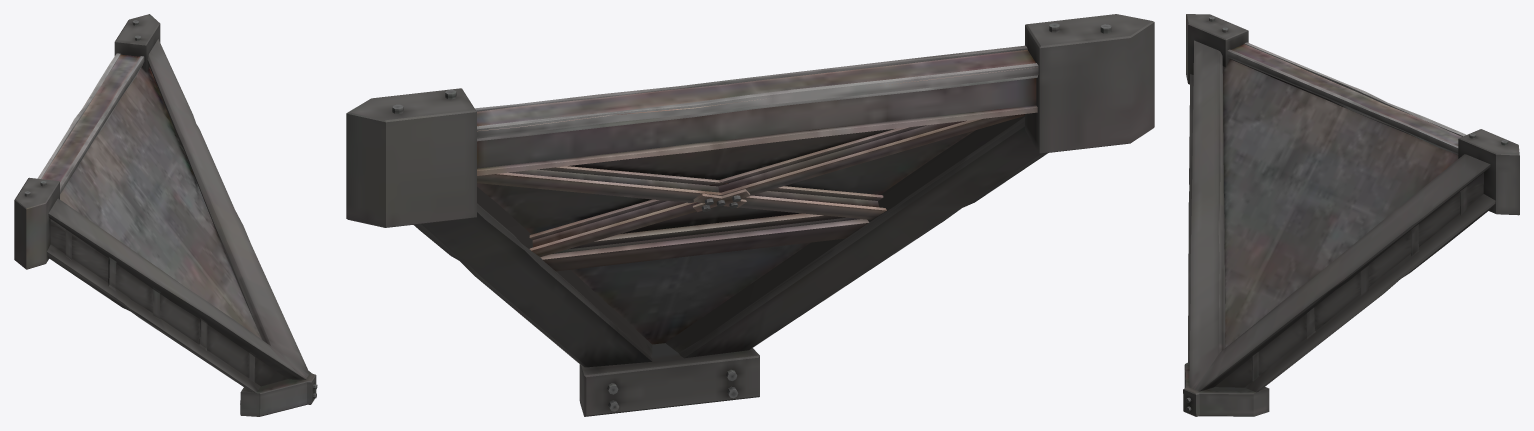
File: SM_SlopeRoofCornerReverse_Iron_b4ec48.glb
The picture shows the model from 3 angles, left to right: view 1: azimuth 30°, elevation 25°; view 2: azimuth 150°, elevation 25°; view 3: azimuth 270°, elevation 25°; orthographic projection. The views are drawn at different scales.
Bounding box in the file's own units: 4.13 × 3.58 × 4.13.
Materials: 1 (1 with a texture image).
